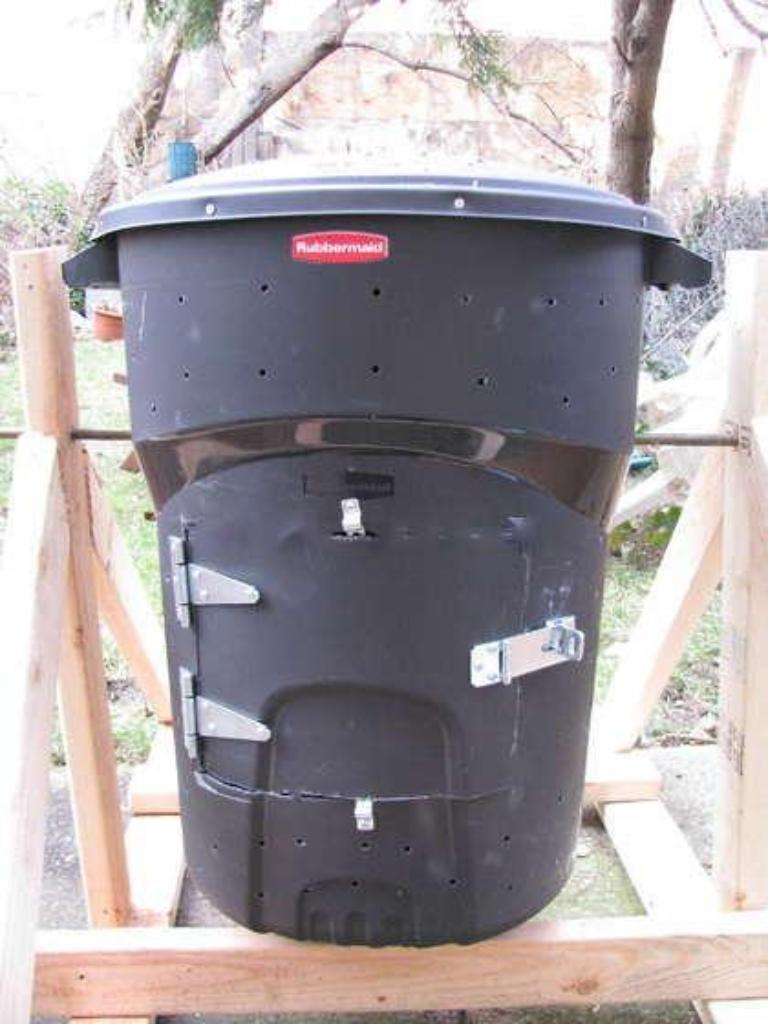dustbin: (66, 149, 715, 973)
